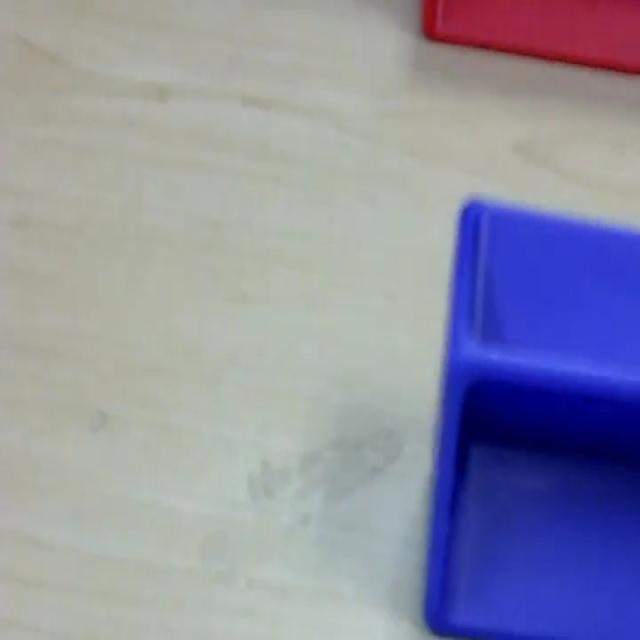blue_block: (422, 191, 638, 636)
red_block: (420, 0, 639, 75)
